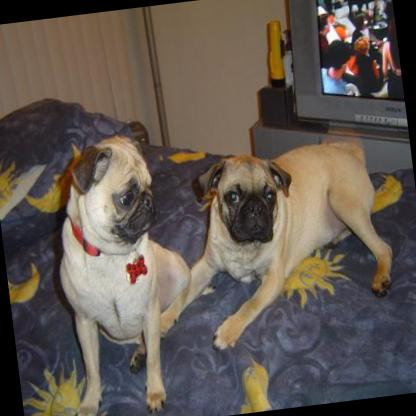pug: (103, 128, 416, 373), (35, 110, 209, 416)
